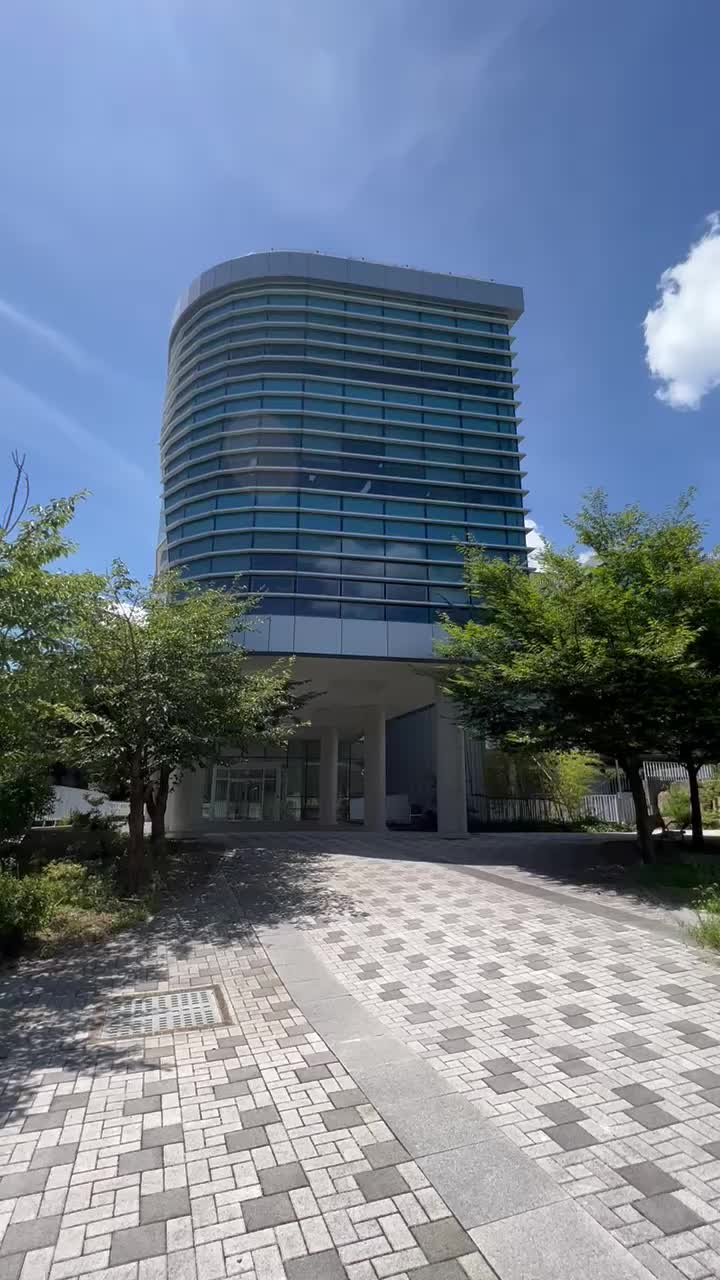low: (100, 240, 554, 584)
